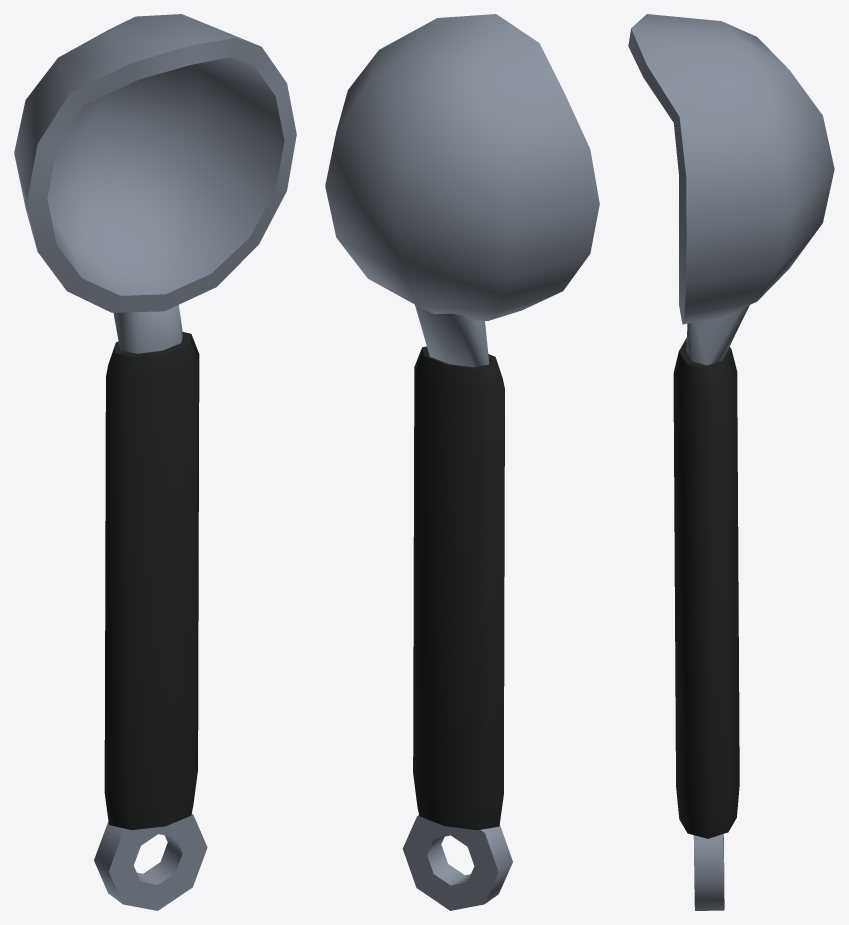
File: cooking_assets_ice_cream_scooper.glb
3 renders of one model, left to right at view 1: azimuth 30°, elevation 25°; view 2: azimuth 150°, elevation 25°; view 3: azimuth 270°, elevation 25°, orthographic. The views are drawn at different scales.
Parts seen in each view (by area): view 1: cutensils_ice_scream_scooper_Cylinder.022; view 2: cutensils_ice_scream_scooper_Cylinder.022; view 3: cutensils_ice_scream_scooper_Cylinder.022.
Boxes of the visible parts, box(x1,y1,x2,y2) form: cutensils_ice_scream_scooper_Cylinder.022: box(14, 14, 296, 910); cutensils_ice_scream_scooper_Cylinder.022: box(325, 14, 599, 910); cutensils_ice_scream_scooper_Cylinder.022: box(628, 14, 834, 910).
Size of the model in its own units: 1.82 by 5.73 by 1.22.
1 material, 1 textured.
